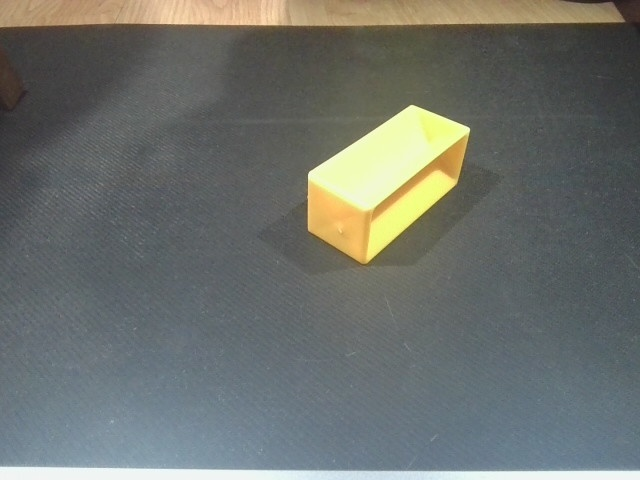YellowSample: (304, 102, 474, 267)
